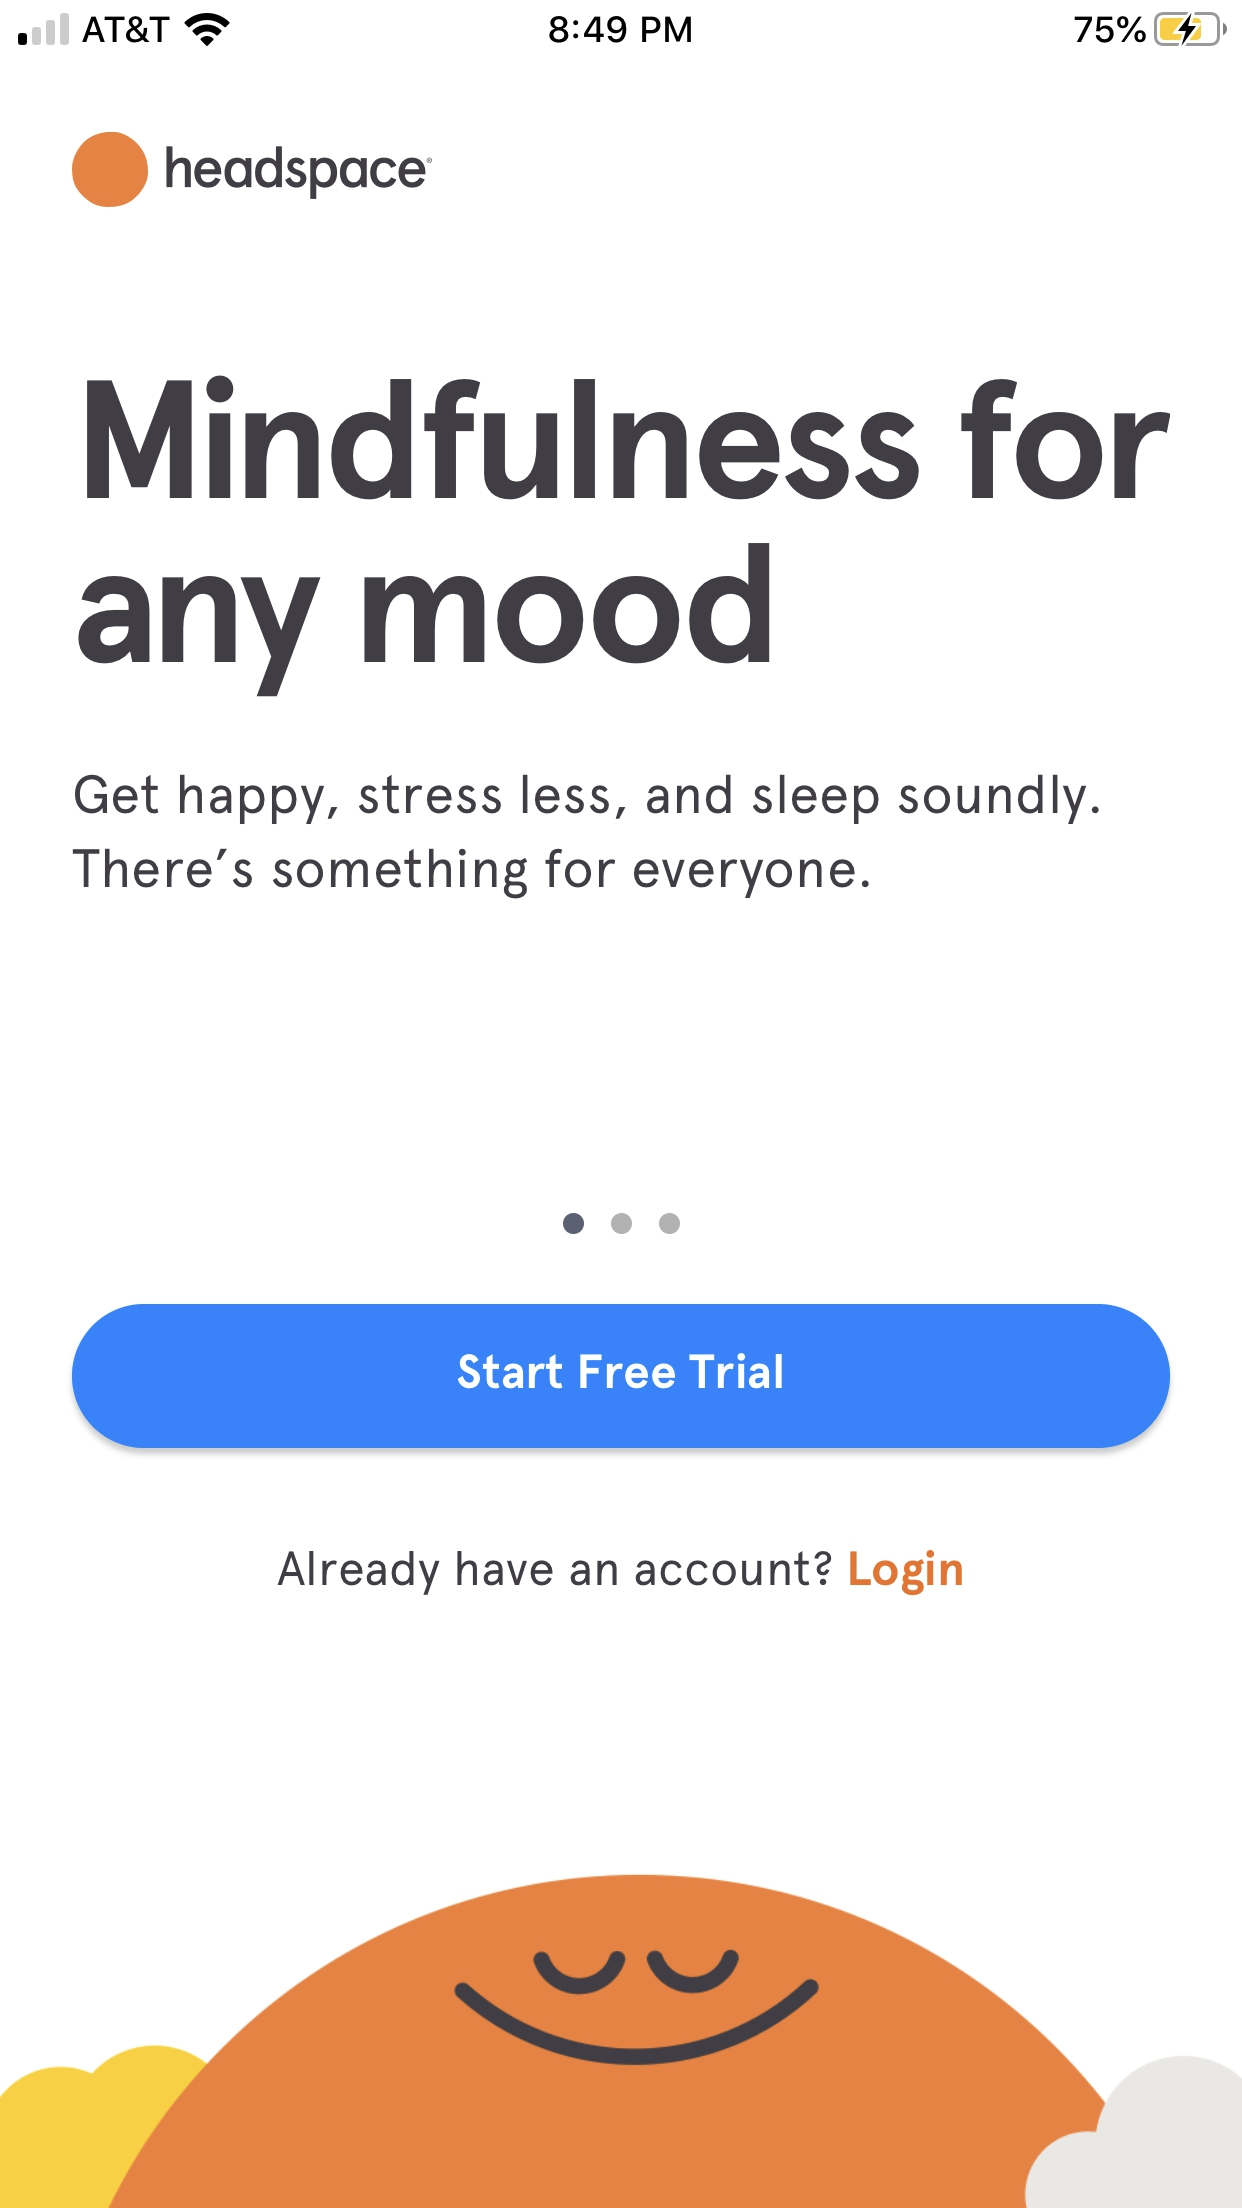Image: (2, 1874, 1240, 2208), (71, 132, 149, 208)
PageIndicator: (563, 1213, 679, 1234)
Text: (77, 375, 1171, 698), (71, 773, 1099, 899), (278, 1551, 833, 1595), (165, 146, 432, 199), (851, 1550, 961, 1595)
TextButton: (71, 1304, 1171, 1448)
UpperTaskBar: (2, 2, 1242, 47)
